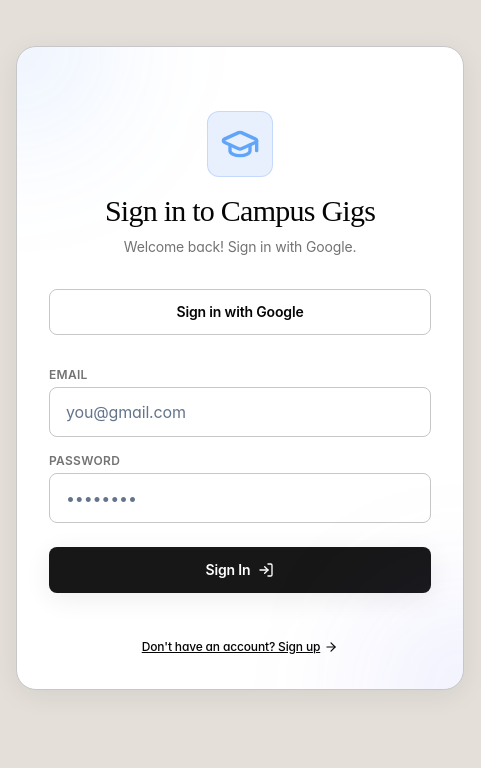
Test: Login Page Onboarding Components › should toggle to registration mode when sign up link is clicked
Click the button "Don't have an account? Sign up". click: (240, 647)
box: [142,639,338,655]
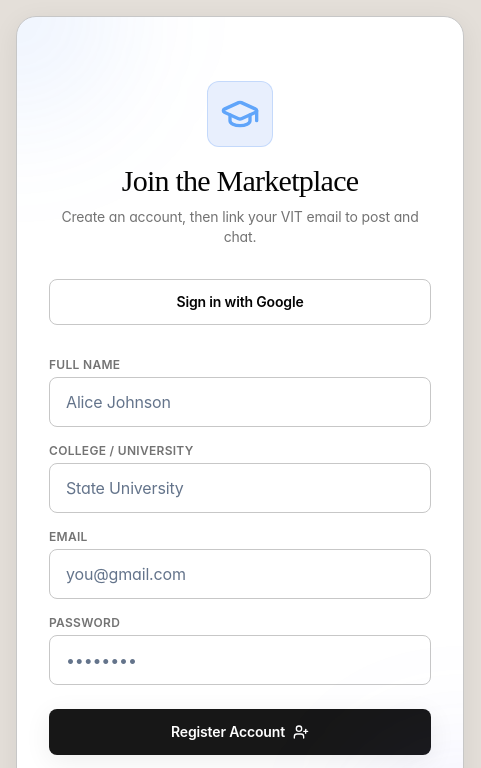
Expected: the heading "Join the Marketplace" is shown, [122,164,358,197]
Expected: the field labelled "Full Name" is shown, [49,377,431,427]
Expected: the field labelled "College / University" is shown, [49,463,431,513]
